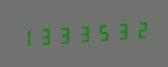five: (93, 19, 111, 45)
one: (17, 24, 35, 50)
three: (36, 23, 54, 49), (74, 20, 92, 46), (55, 22, 73, 47), (112, 18, 130, 43)
two: (131, 16, 149, 42)
